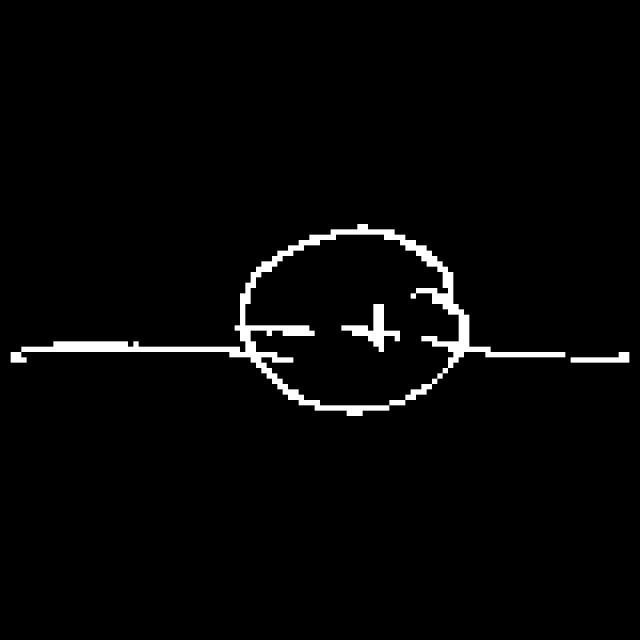voltage_source: (235, 216, 486, 424)
